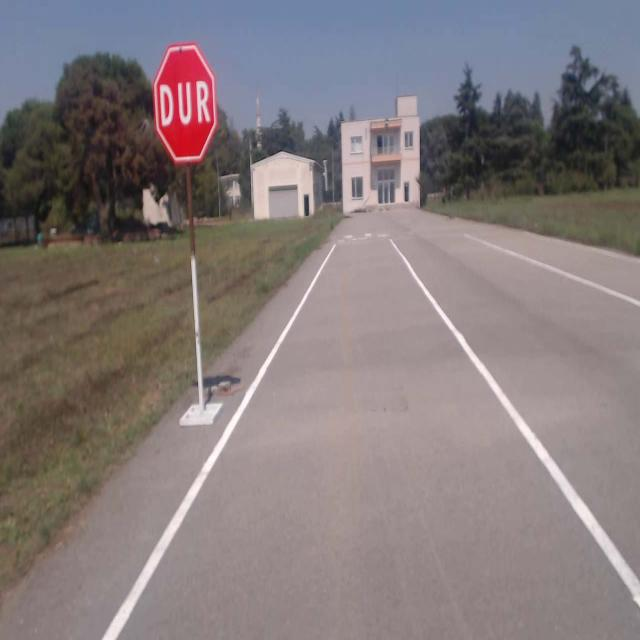dur: (153, 42, 217, 162)
